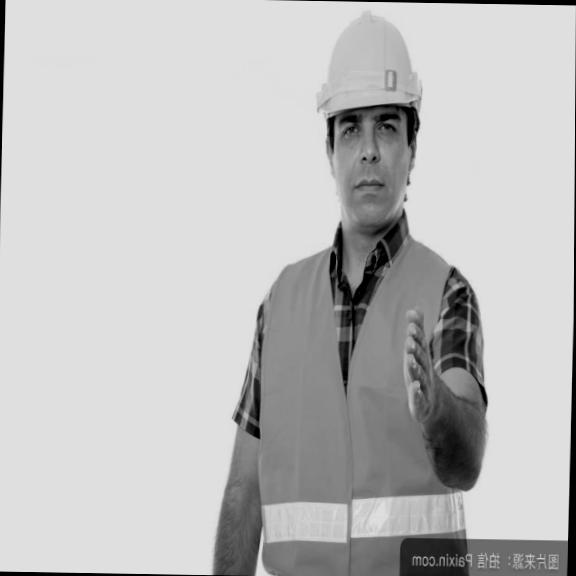safety_vest: (228, 220, 491, 576)
